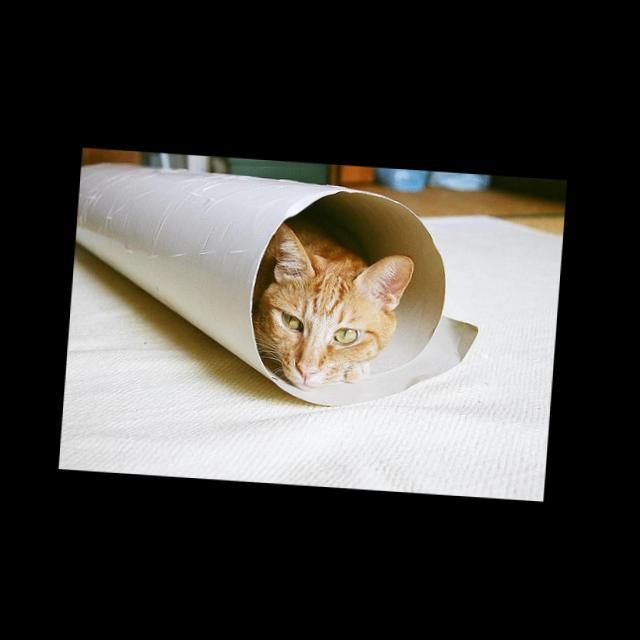animals: (268, 219, 413, 384)
